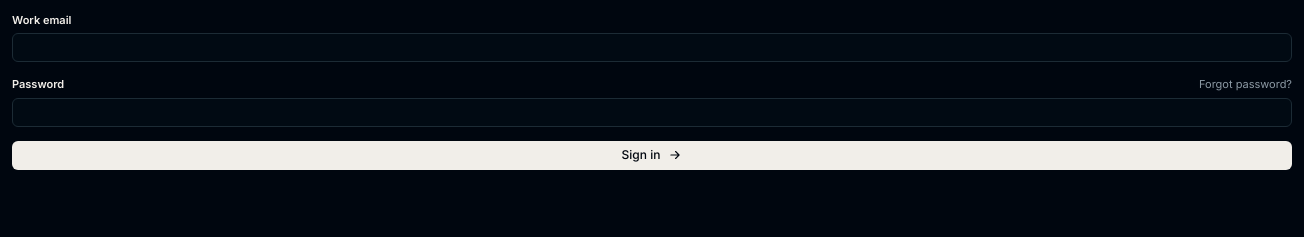
Test: a failed login shows one fixed message and keeps what was typed
Type "a@example.com" into the field labelled "Work email" at [652, 48], box [12,33,1292,62]
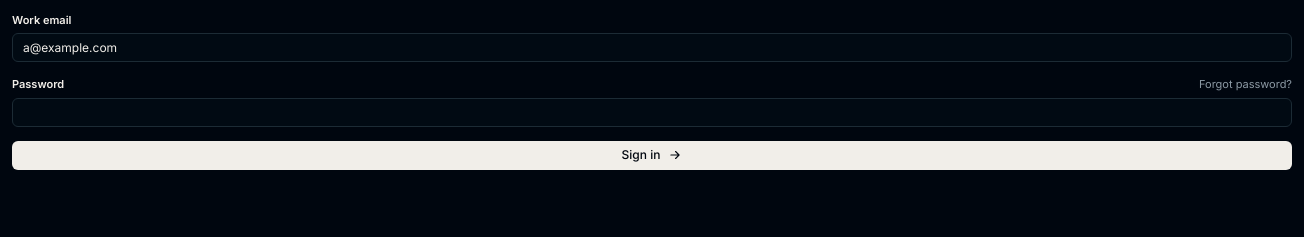
Type "wrong" into the password field labelled "Password" at [652, 112], box [12,98,1292,126]
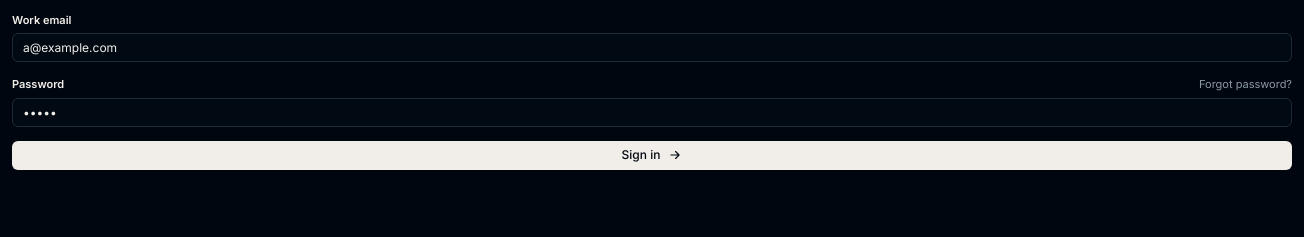
Click the button "Sign in" at [652, 155], box [12,140,1292,170]
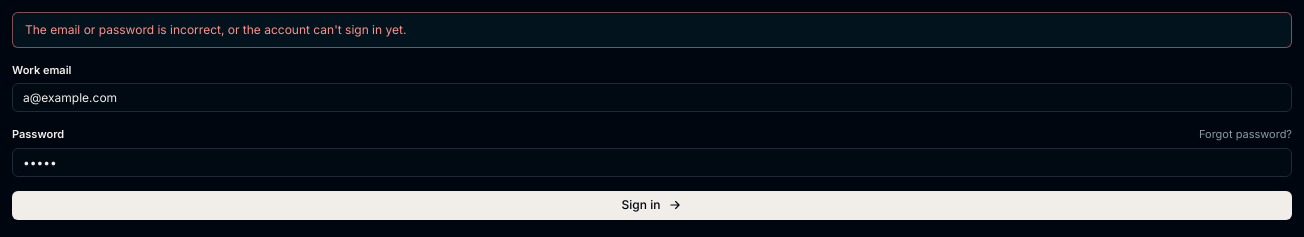
Check: the message shows "email or password is incorrect", box [25,22,406,37]
